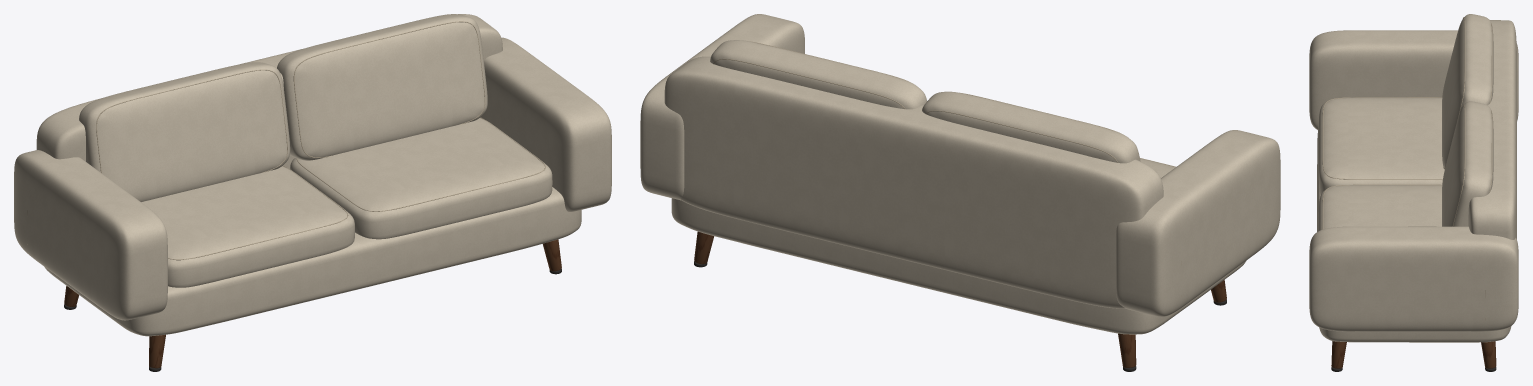
The model's file is sofa_oatmeal.glb.
3 views of the same model, side by side, from view 1: azimuth 30°, elevation 25°; view 2: azimuth 150°, elevation 25°; view 3: azimuth 270°, elevation 25° (orthographic). The views are drawn at different scales.
Parts seen in each view (by area): view 1: Left | feather back cushion, Arm | vertical tailoring seam, Walnut | splayed tapered foot; view 2: Left | feather back cushion, Walnut | splayed tapered foot, Arm | vertical tailoring seam; view 3: Left | feather back cushion, Arm | vertical tailoring seam, Walnut | splayed tapered foot.
Part boxes in pixels (left/top/right/bottom): Left | feather back cushion: left=14, top=14, right=611, bottom=336; Arm | vertical tailoring seam: left=27, top=21, right=545, bottom=260; Walnut | splayed tapered foot: left=64, top=239, right=561, bottom=368; Left | feather back cushion: left=640, top=14, right=1280, bottom=334; Walnut | splayed tapered foot: left=694, top=231, right=1226, bottom=367; Arm | vertical tailoring seam: left=713, top=41, right=1181, bottom=296; Left | feather back cushion: left=1309, top=14, right=1518, bottom=342; Arm | vertical tailoring seam: left=1322, top=17, right=1492, bottom=320; Walnut | splayed tapered foot: left=1331, top=341, right=1496, bottom=368.
Bounding box in the file's own units: 2.28 × 0.9174 × 0.9251.
Materials: 4 (2 with a texture image).
